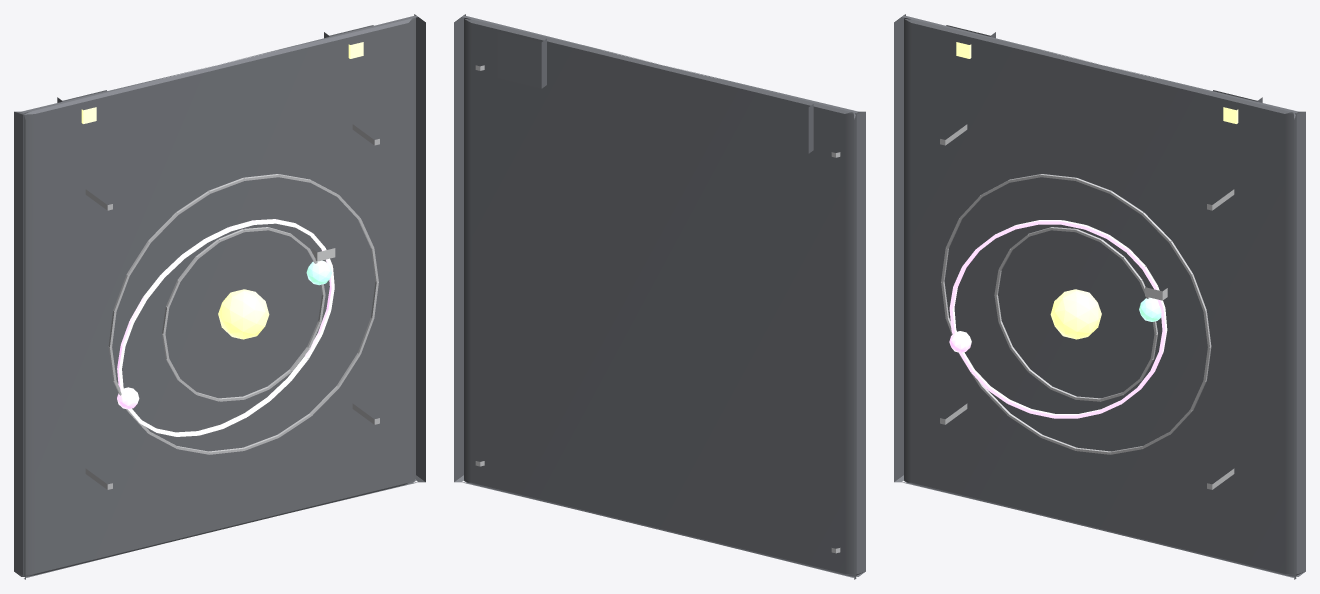
The model's file is iter_02.glb.
3 renders of one model, left to right at view 1: azimuth 30°, elevation 25°; view 2: azimuth 150°, elevation 25°; view 3: azimuth 330°, elevation 25°, orthographic.
Visible parts, largest first — view 1: Back_Plate, Cycler_Route, Mars_Orbit, Sun, Earth_Orbit, Standoff_Pins; view 2: Back_Plate, Rail_Hooks; view 3: Back_Plate, Mars_Orbit, Cycler_Route, Sun, Earth_Orbit, Standoff_Pins.
Boxes of the visible parts, <box> form: Back_Plate: <box>14,14,425,579</box>; Cycler_Route: <box>117,219,334,436</box>; Mars_Orbit: <box>108,174,378,454</box>; Sun: <box>218,289,269,339</box>; Earth_Orbit: <box>162,227,325,401</box>; Standoff_Pins: <box>85,124,379,489</box>; Back_Plate: <box>454,14,865,579</box>; Rail_Hooks: <box>497,31,813,153</box>; Back_Plate: <box>894,14,1305,579</box>; Mars_Orbit: <box>941,174,1211,454</box>; Cycler_Route: <box>949,220,1167,418</box>; Sun: <box>1050,289,1101,339</box>; Earth_Orbit: <box>994,227,1157,401</box>; Standoff_Pins: <box>940,124,1234,489</box>.
Size of the model in its own units: 0.9 by 1 by 0.17.
